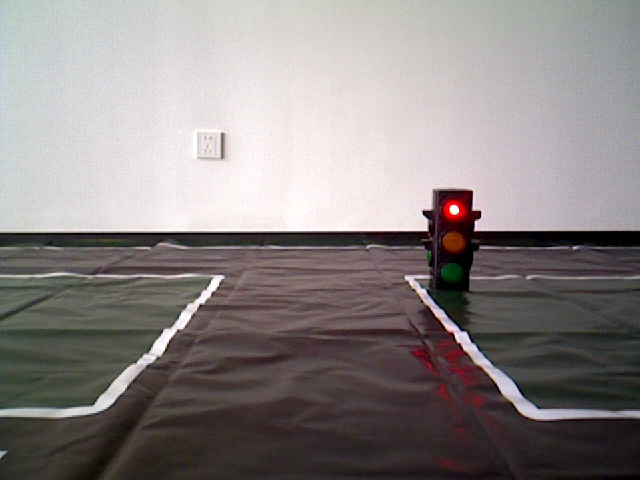red: (430, 194, 471, 287)
